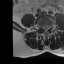CCS_stenosis: (45, 26, 47, 33)
LFS_severe_stenosis: (49, 25, 51, 30)
LLS_stenosis: (47, 25, 49, 31)
RFS_severe_stenosis: (41, 25, 43, 30)
RLS_stenosis: (43, 26, 45, 31)
